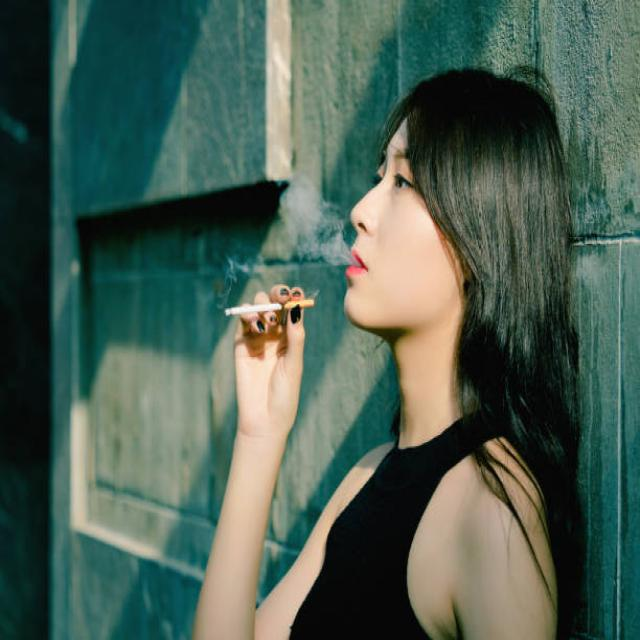Cigarette: (216, 296, 319, 324)
